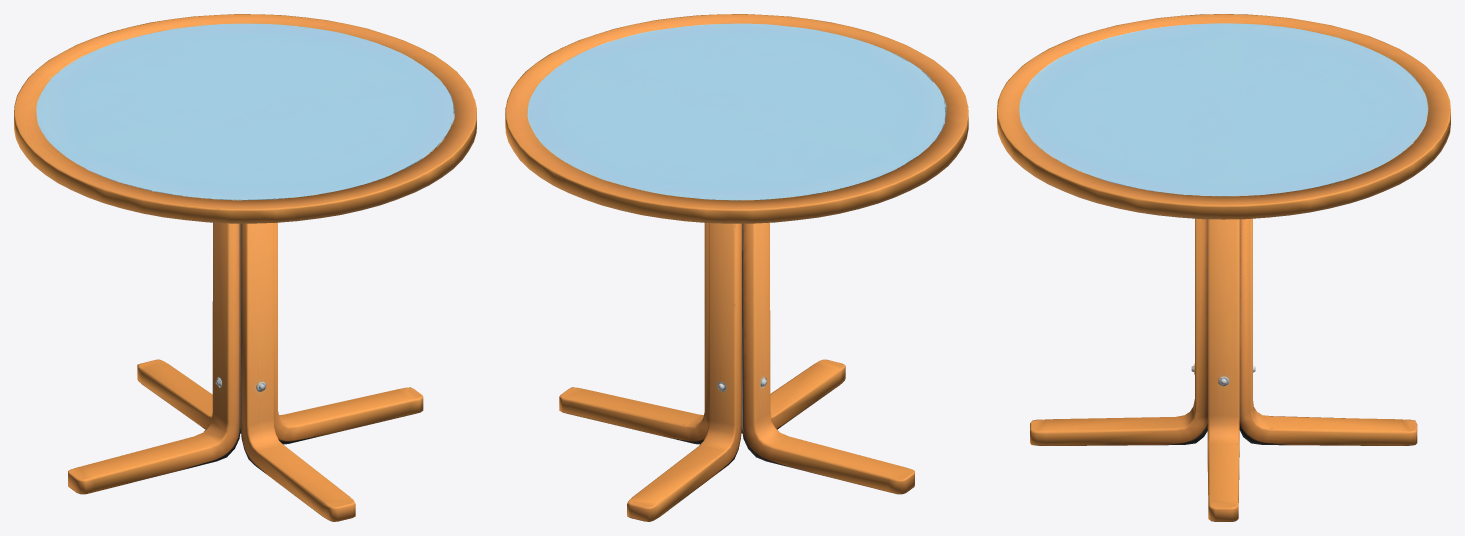
Rendered from desk.glb.
3 views of the same model, side by side, from view 1: azimuth 30°, elevation 25°; view 2: azimuth 150°, elevation 25°; view 3: azimuth 270°, elevation 25° (orthographic). The views are drawn at different scales.
Parts seen in each view (by area): view 1: tripo_node_ca1b0684-61a5-4c17-b2ae-80b7444edb51; view 2: tripo_node_ca1b0684-61a5-4c17-b2ae-80b7444edb51; view 3: tripo_node_ca1b0684-61a5-4c17-b2ae-80b7444edb51.
Part boxes in pixels (x1=…): tripo_node_ca1b0684-61a5-4c17-b2ae-80b7444edb51: x1=14, y1=14, x2=476, y2=521; tripo_node_ca1b0684-61a5-4c17-b2ae-80b7444edb51: x1=505, y1=14, x2=968, y2=521; tripo_node_ca1b0684-61a5-4c17-b2ae-80b7444edb51: x1=997, y1=14, x2=1450, y2=521.
Bounding box in the file's own units: 0.998 × 0.7988 × 0.998.
1 material, 1 textured.
